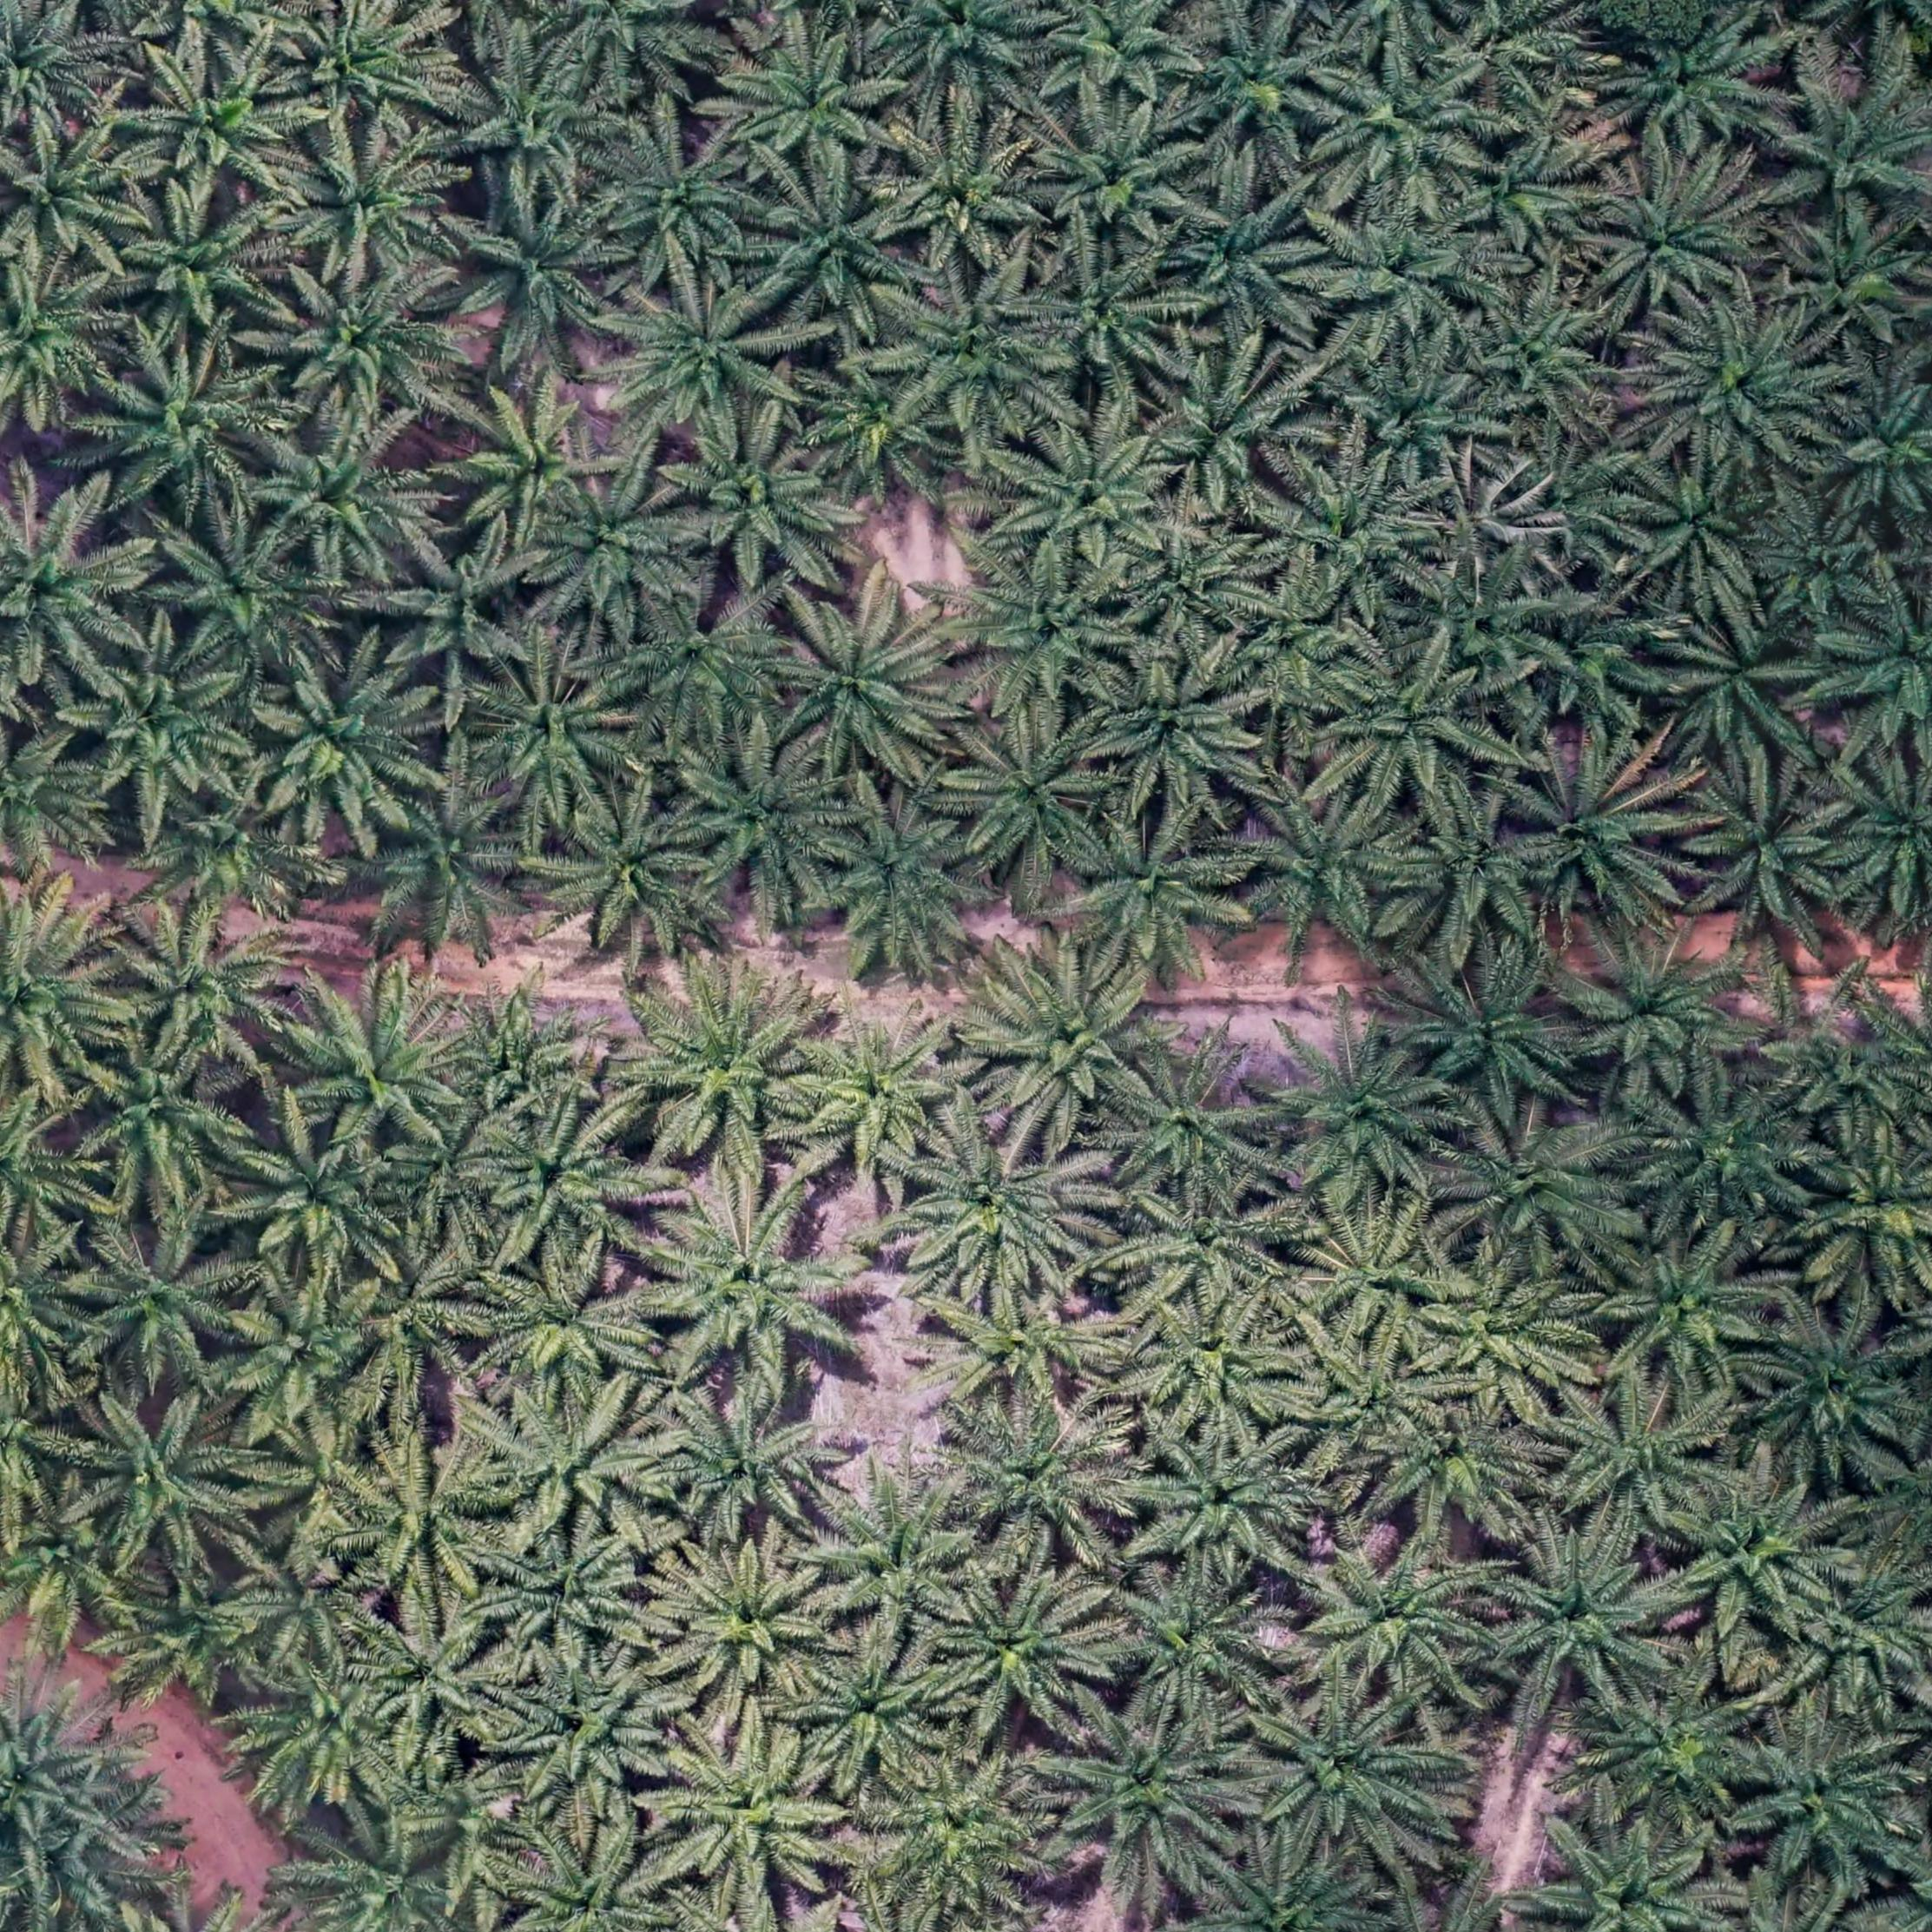palmtree: (631, 1174, 878, 1394), (614, 961, 835, 1174), (1044, 1700, 1259, 1900), (893, 1111, 1104, 1303), (964, 943, 1173, 1137), (61, 1381, 265, 1577), (1247, 1687, 1458, 1872), (58, 623, 255, 821), (247, 647, 445, 843), (1291, 1529, 1502, 1711), (1633, 300, 1840, 485), (89, 337, 291, 524), (650, 1721, 852, 1909), (1484, 1524, 1682, 1712), (770, 589, 963, 779), (261, 254, 465, 431), (1393, 948, 1595, 1126), (109, 901, 309, 1080), (1510, 741, 1695, 933), (611, 268, 810, 446), (663, 416, 857, 598), (283, 974, 471, 1161), (1557, 926, 1756, 1103), (860, 1746, 1057, 1923), (810, 791, 994, 980), (0, 1674, 146, 1912), (147, 504, 338, 685), (1739, 1303, 1925, 1488), (531, 785, 722, 966), (447, 189, 635, 372), (1658, 1474, 1850, 1650), (1122, 1418, 1322, 1587), (1271, 1022, 1460, 1201), (489, 1643, 680, 1819), (951, 1394, 1144, 1567), (1590, 1219, 1784, 1392), (251, 416, 442, 591), (67, 1025, 254, 1203), (804, 1469, 988, 1650), (68, 1209, 253, 1388), (467, 643, 647, 828), (123, 36, 315, 208), (670, 737, 857, 913), (0, 482, 152, 697), (1316, 640, 1500, 818), (1733, 1720, 1920, 1895), (651, 1385, 843, 1554), (1682, 764, 1861, 946), (362, 775, 539, 957), (1064, 804, 1251, 976), (933, 1564, 1122, 1735), (1536, 1380, 1729, 1546), (651, 1540, 840, 1710), (953, 551, 1142, 721), (1584, 1660, 1774, 1829), (1100, 1556, 1291, 1723), (1631, 1073, 1823, 1238), (474, 1388, 666, 1553), (1264, 452, 1448, 623), (231, 1646, 411, 1821), (1438, 1107, 1631, 1269), (1586, 155, 1773, 322), (607, 580, 794, 748), (887, 262, 1069, 434), (227, 1107, 398, 1289), (1139, 342, 1315, 518), (1415, 1254, 1599, 1422), (472, 1098, 650, 1271), (435, 39, 620, 205), (1599, 4, 1791, 163), (112, 181, 295, 348), (472, 1515, 659, 1678), (790, 1011, 971, 1179), (471, 1248, 658, 1408), (527, 465, 707, 633), (1164, 172, 1338, 343), (1651, 611, 1833, 775), (1400, 540, 1571, 714), (346, 1429, 512, 1607), (0, 882, 137, 1098), (274, 127, 462, 284), (932, 1278, 1125, 1431), (377, 530, 546, 702), (1088, 649, 1264, 814), (752, 166, 927, 331), (727, 27, 908, 185), (444, 378, 617, 544), (1364, 1401, 1553, 1553), (218, 1273, 384, 1442), (1232, 787, 1414, 941), (880, 114, 1053, 275), (1761, 68, 1930, 233), (1318, 48, 1494, 204), (955, 718, 1122, 883), (1390, 790, 1558, 953), (591, 122, 763, 280), (142, 775, 316, 930), (1103, 1045, 1278, 1198), (1115, 1181, 1301, 1325), (1121, 1294, 1303, 1440), (1026, 102, 1201, 254), (1790, 1119, 1932, 1305), (1002, 422, 1177, 572), (1177, 7, 1346, 162), (1317, 208, 1490, 359), (1780, 1548, 1932, 1719), (117, 1557, 280, 1716), (793, 1636, 958, 1791), (277, 0, 453, 145), (1621, 458, 1786, 611), (801, 354, 963, 509), (1523, 1816, 1737, 1932), (1506, 425, 1663, 582), (0, 1487, 146, 1653), (1028, 247, 1190, 396), (360, 1226, 493, 1406), (1771, 210, 1929, 361), (368, 1601, 516, 1762), (1446, 122, 1606, 268), (1463, 280, 1616, 430), (0, 251, 129, 427), (1283, 1332, 1452, 1467), (0, 117, 144, 274), (440, 992, 604, 1127), (1339, 354, 1500, 492), (1302, 1210, 1461, 1344), (872, 0, 1057, 111), (1776, 1006, 1925, 1144), (1811, 368, 1932, 537), (1822, 577, 1932, 761), (503, 1824, 686, 1932), (252, 1414, 392, 1553), (1112, 518, 1266, 645), (236, 1536, 379, 1672), (1229, 574, 1367, 714), (1190, 1836, 1392, 1932), (1825, 751, 1932, 931), (1752, 490, 1892, 625), (542, 0, 725, 103), (1025, 0, 1200, 108), (299, 1814, 458, 1932), (0, 1220, 103, 1398), (0, 715, 110, 879), (1535, 609, 1681, 732), (380, 1104, 511, 1239), (1444, 0, 1599, 114), (0, 0, 115, 146), (0, 1362, 89, 1523)
